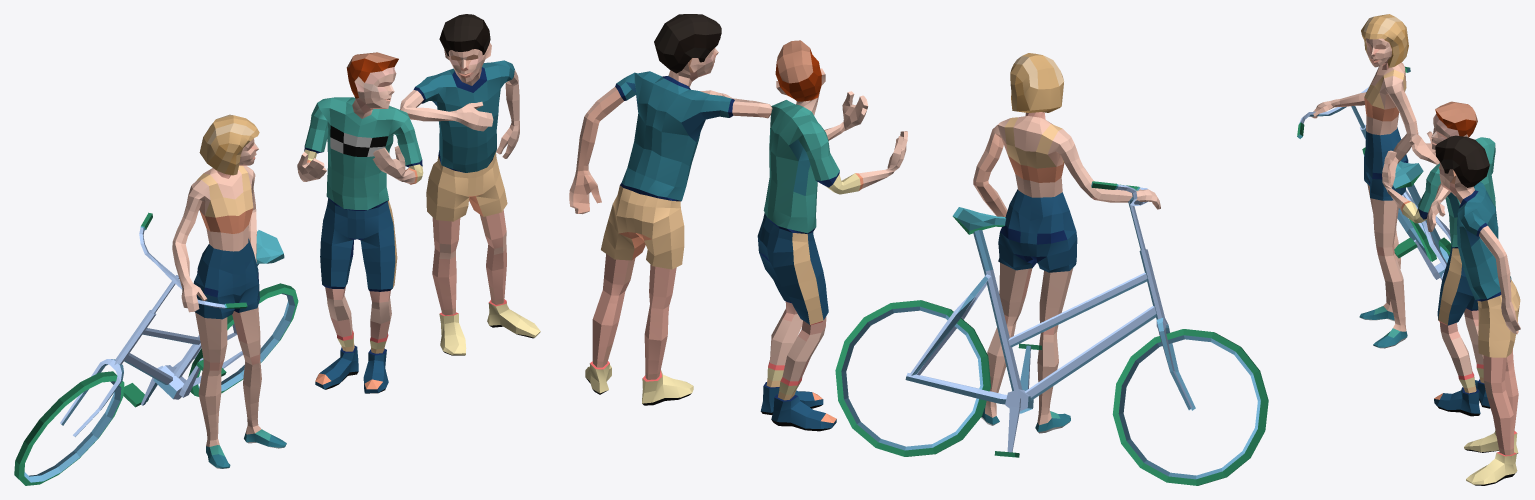
The model's file is static_set_low-poly_3d_characters_tell_her.glb.
The picture shows the model from 3 angles, left to right: view 1: azimuth 30°, elevation 25°; view 2: azimuth 150°, elevation 25°; view 3: azimuth 270°, elevation 25°; orthographic projection. The views are drawn at different scales.
Visible parts, largest first — view 1: Object_3, Object_2; view 2: Object_3, Object_2; view 3: Object_3, Object_2.
Part boxes in pixels (box(x1,y1,x2,y2)): Object_3: box(172, 14, 540, 468); Object_2: box(14, 212, 298, 485); Object_3: box(569, 14, 1160, 433); Object_2: box(835, 181, 1268, 485); Object_3: box(1311, 14, 1520, 485); Object_2: box(1297, 66, 1451, 280).
Bounding box in the file's own units: 265 × 151 × 98.16.
Materials: 2 (2 with a texture image).
